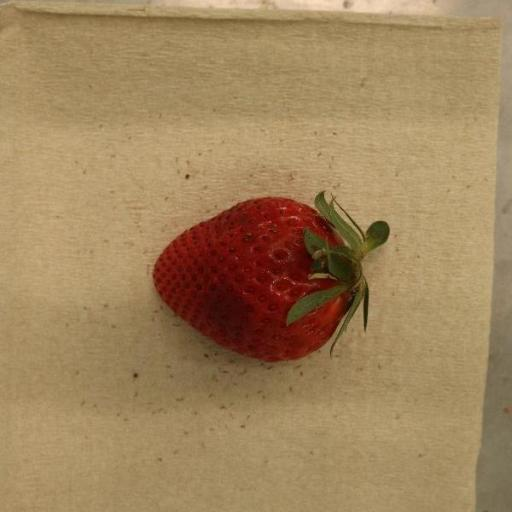Strawberry: (155, 193, 392, 362)
